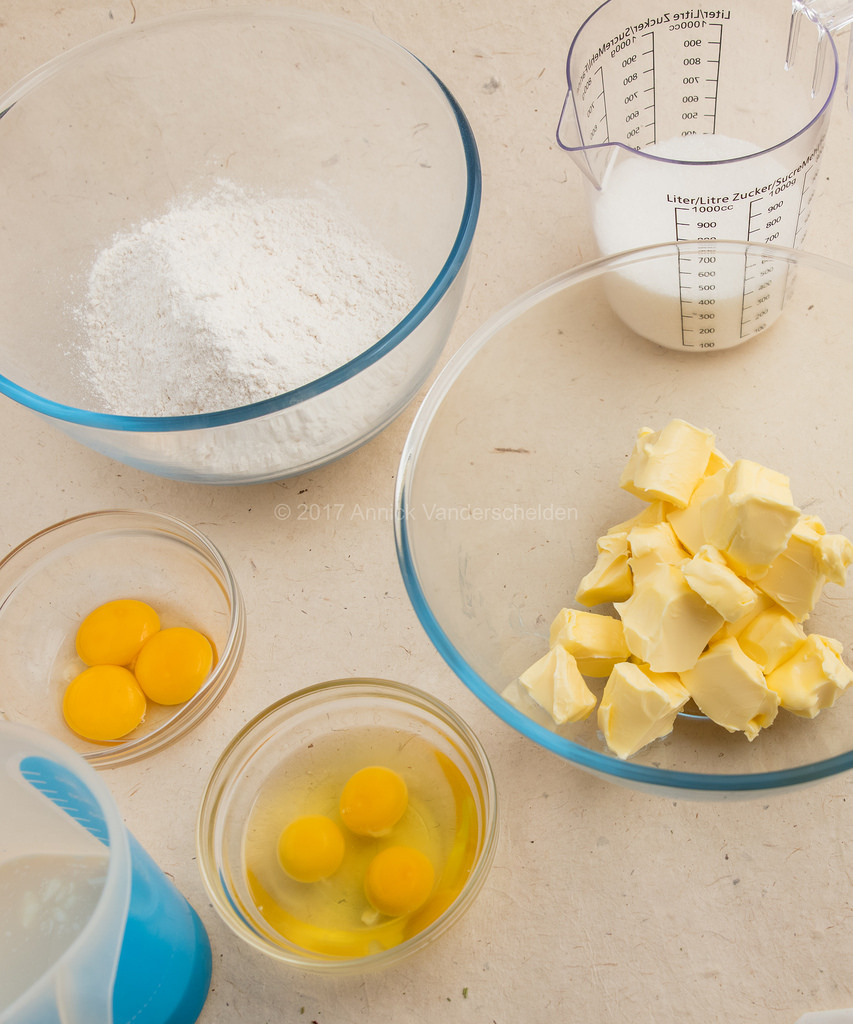glass of milk: (598, 140, 824, 362)
